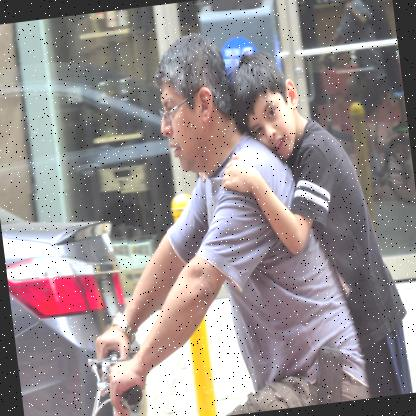Car: (0, 182, 150, 415)
